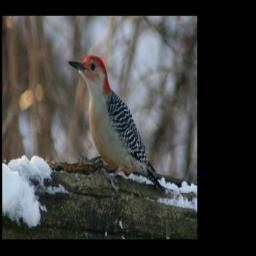Woodpecker: (66, 55, 165, 191)
